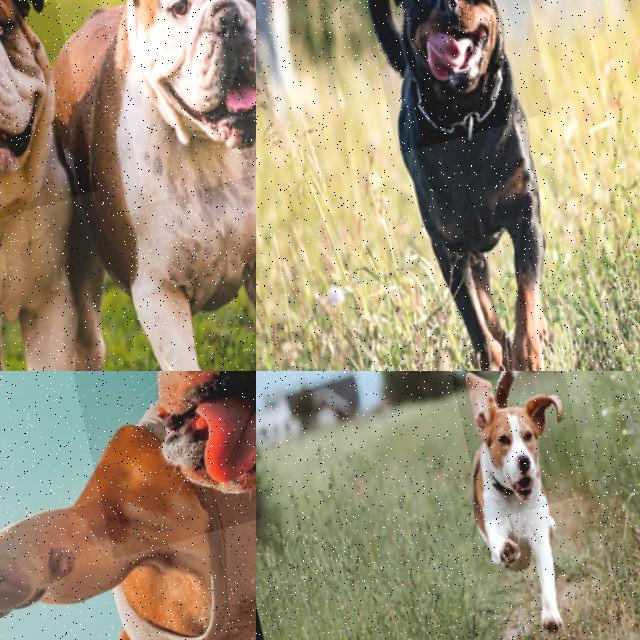beagle: (446, 371, 599, 523)
bulldog: (24, 371, 256, 560), (68, 0, 256, 206), (0, 0, 112, 247)
rottweiler: (337, 0, 565, 155)
